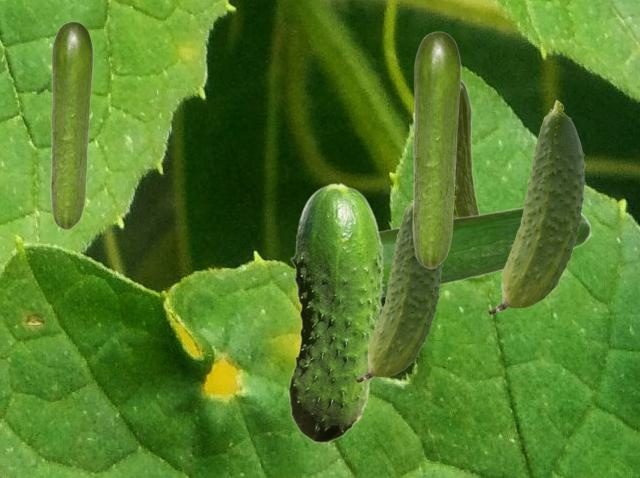cucumber: (288, 182, 384, 442), (488, 100, 585, 313), (379, 205, 590, 297), (356, 199, 442, 381), (412, 31, 460, 268), (50, 21, 92, 229), (454, 79, 481, 277)
